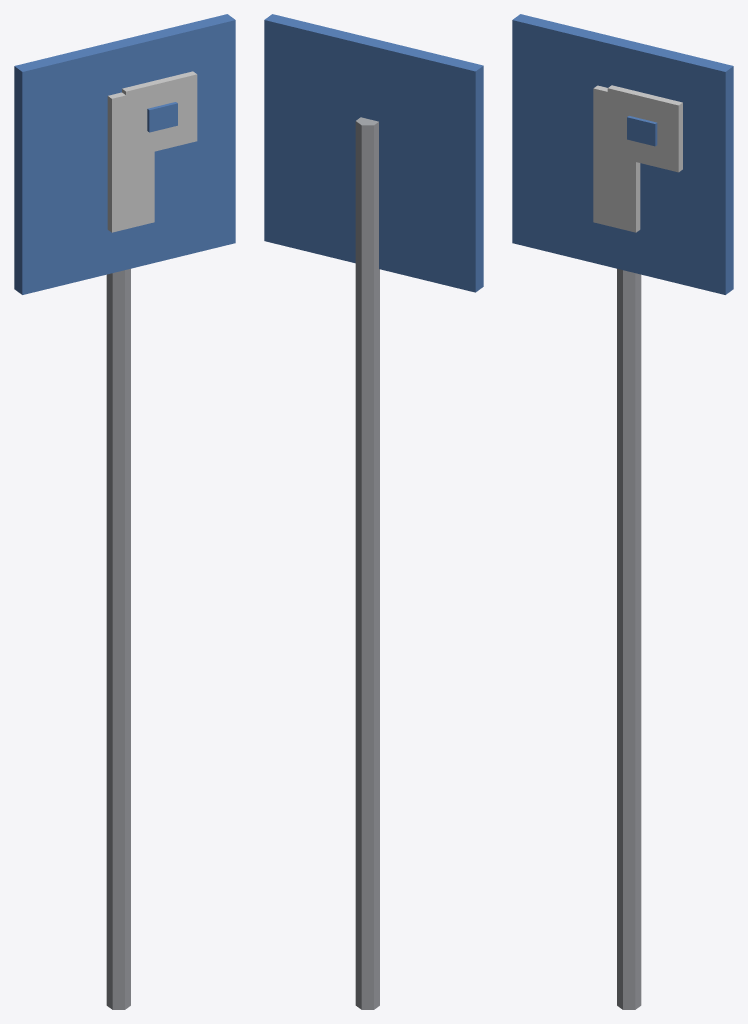
File: Tabela_Park.glb
The picture shows the model from 3 angles, left to right: view 1: azimuth 30°, elevation 25°; view 2: azimuth 150°, elevation 25°; view 3: azimuth 330°, elevation 25°; orthographic projection.
Parts seen in each view (by area): view 1: Tabela_Park; view 2: Tabela_Park; view 3: Tabela_Park.
Part boxes in pixels (x1,y1,x2,y2): Tabela_Park: (14, 14, 235, 1009); Tabela_Park: (264, 14, 483, 1009); Tabela_Park: (512, 14, 733, 1009).
Bounding box in the file's own units: 0.6 × 2.6 × 0.11.
